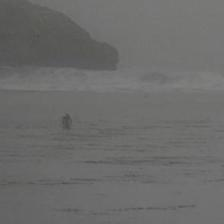surfer: (60, 112, 72, 123)
